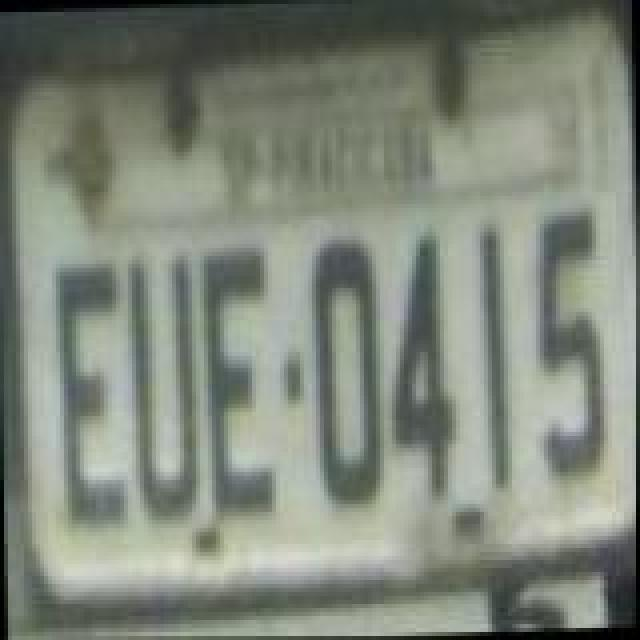1: (480, 224, 512, 496)
4: (388, 228, 460, 496)
5: (532, 204, 604, 484)
E: (196, 246, 276, 522), (50, 254, 126, 530)
O: (304, 234, 384, 514)
U: (124, 250, 204, 530)
